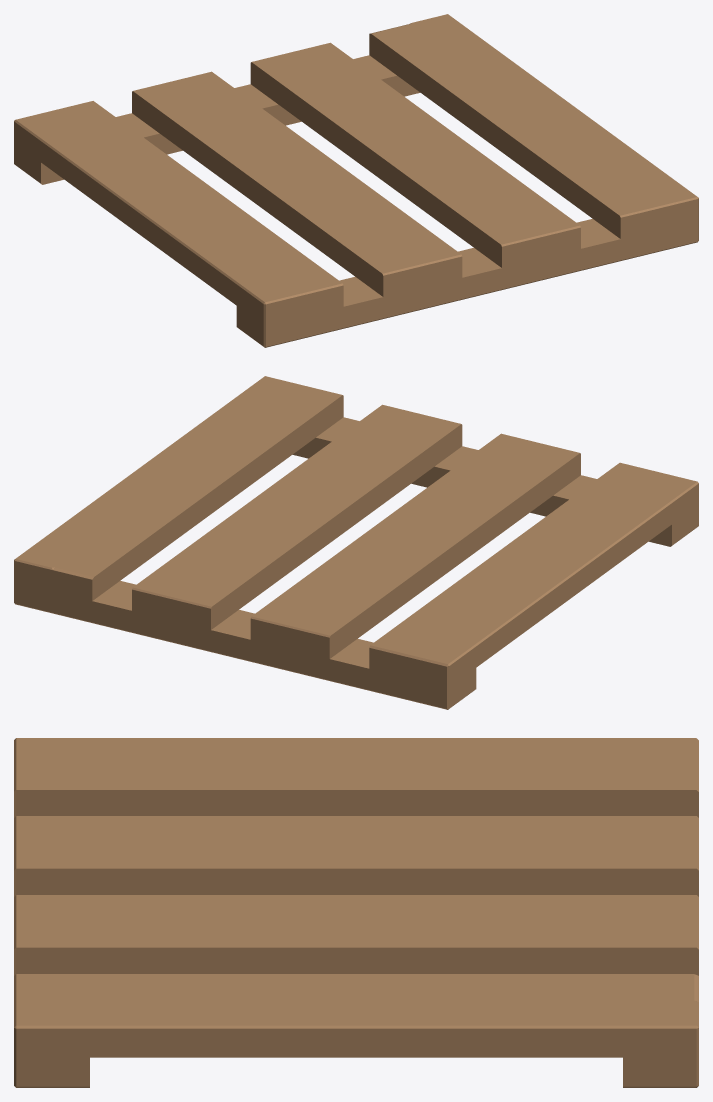
File: SmallPallet.fbx
The picture shows the model from 3 angles, top to bottom: view 1: azimuth 30°, elevation 25°; view 2: azimuth 150°, elevation 25°; view 3: azimuth 270°, elevation 25°; orthographic projection. The views are drawn at different scales.
Parts seen in each view (by area): view 1: New SmallPallet; view 2: New SmallPallet; view 3: New SmallPallet.
Boxes of the visible parts, x1,y1,x2,y2 form: New SmallPallet: (14,14,698,347); New SmallPallet: (14,376,698,709); New SmallPallet: (14,738,698,1087).
Size of the model in its own units: 100 by 10 by 100.
